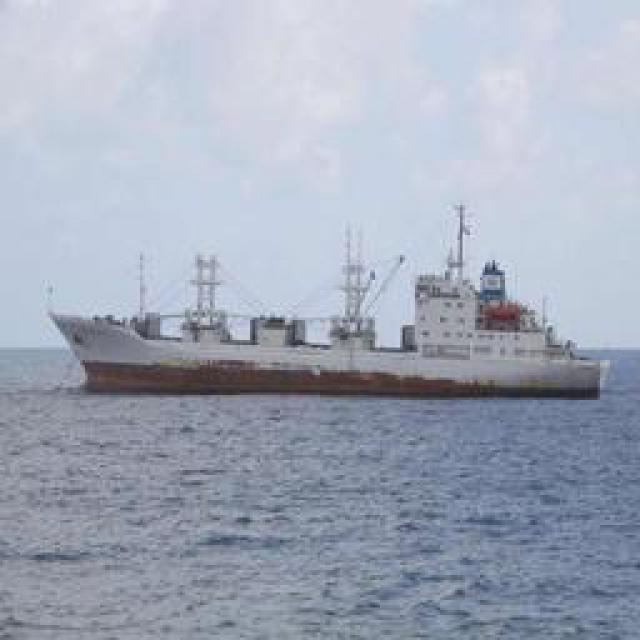Ship: (47, 209, 605, 399)
